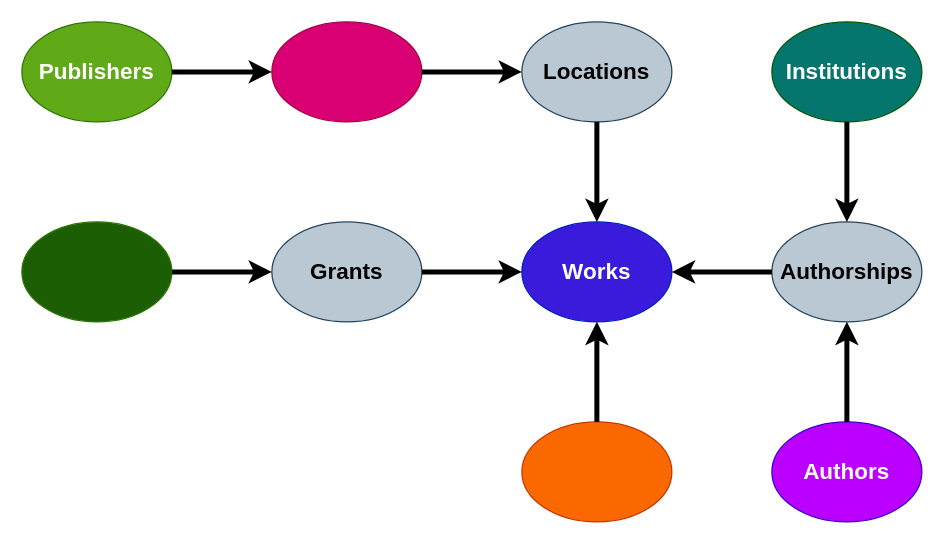
The diagram is 944 pixels wide and 544 high, and some of its shapes have lost their labels. Each missing label, with the centre of its shape:
"Concepts" belongs at [596,471].
"Funders" belongs at [96,271].
"Sources" belongs at [346,71].
